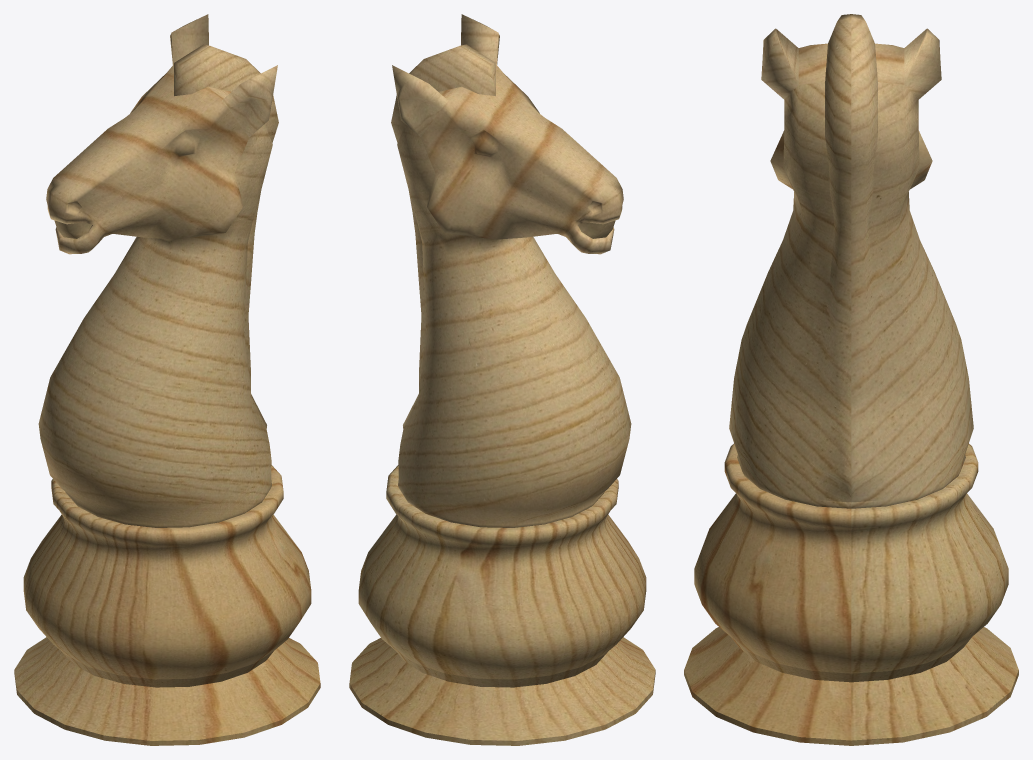
File: White_Knight.dae
3 views of the same model, side by side, from view 1: azimuth 30°, elevation 25°; view 2: azimuth 150°, elevation 25°; view 3: azimuth 270°, elevation 25° (orthographic). The views are drawn at different scales.
Parts seen in each view (by area): view 1: White_knight; view 2: White_knight; view 3: White_knight.
Boxes of the visible parts, left/top/right/bottom form: White_knight: left=14, top=14, right=320, bottom=745; White_knight: left=349, top=14, right=655, bottom=745; White_knight: left=684, top=14, right=1018, bottom=745.
Bounding box in the file's own units: 1.62 × 3.63 × 1.62.
Materials: 1 (1 with a texture image).
